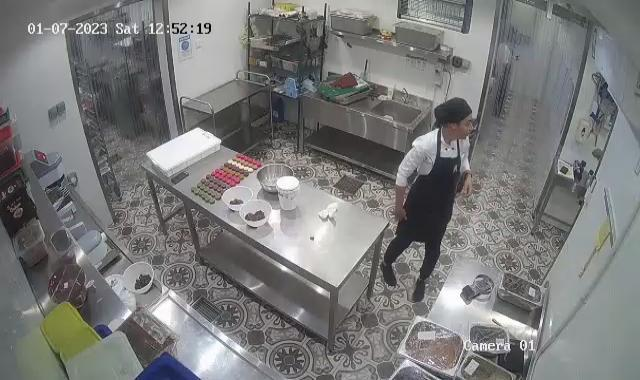no_hairnet: (432, 98, 470, 134)
